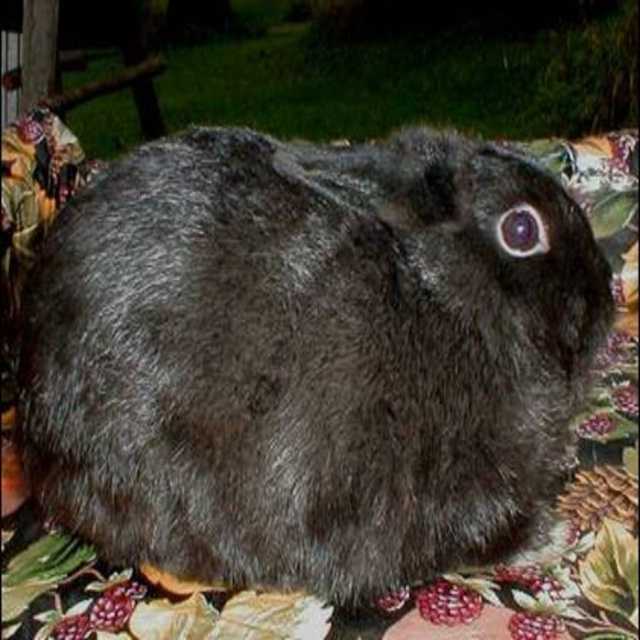Rabbit: (20, 128, 614, 611)
